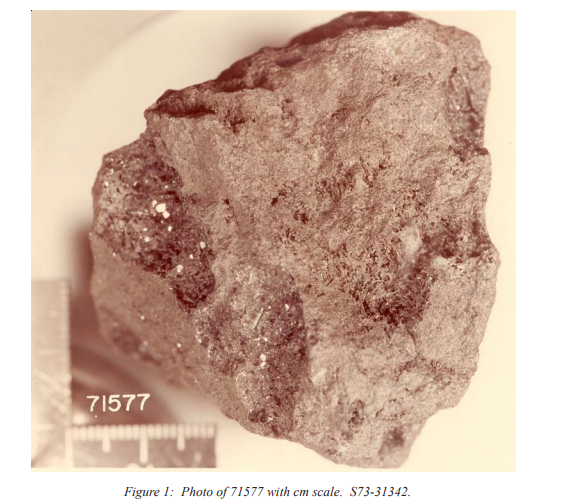Basalt: (102, 83, 501, 453), (231, 56, 467, 393)
